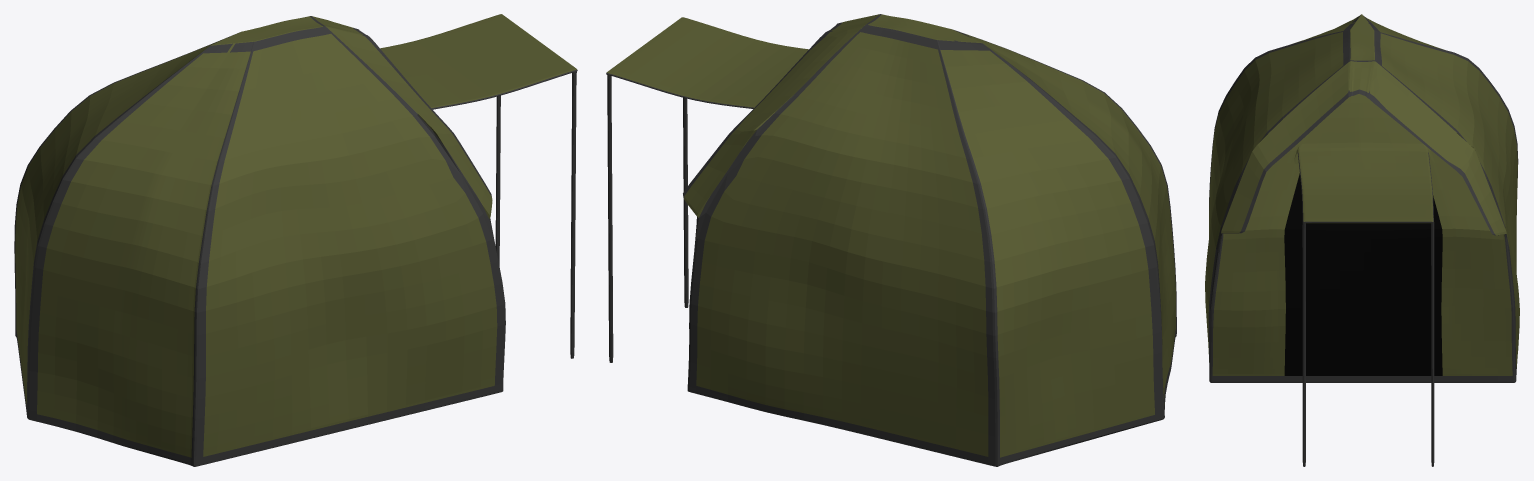
File: tent4.fbx
3 views of the same model, side by side, from view 1: azimuth 30°, elevation 25°; view 2: azimuth 150°, elevation 25°; view 3: azimuth 270°, elevation 25° (orthographic). The views are drawn at different scales.
Parts seen in each view (by area): view 1: Cube.001; view 2: Cube.001; view 3: Cube.001.
Boxes of the visible parts, box(x1,y1,x2,y2) form: Cube.001: box(14, 14, 577, 466); Cube.001: box(606, 14, 1176, 466); Cube.001: box(1205, 14, 1519, 466).
Size of the model in its own units: 332 by 227 by 205.
